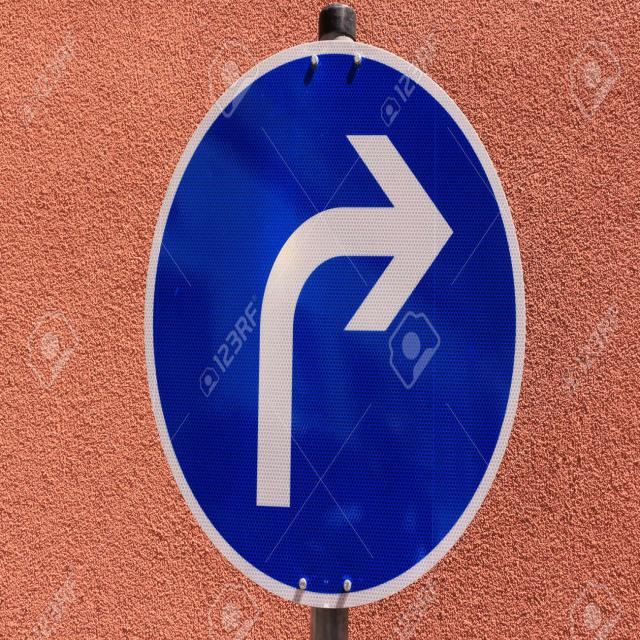RIGHT: (145, 42, 525, 608)
